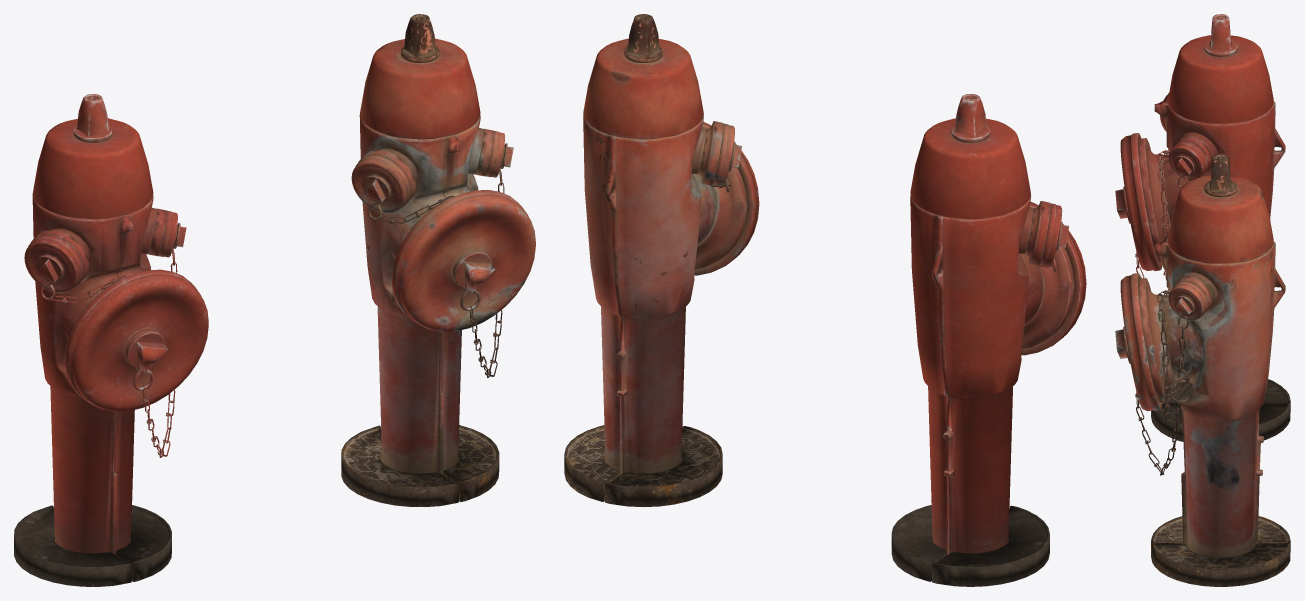
Rendered from fire_hydrant_2k.gltf.
3 views of the same model, side by side, from view 1: azimuth 30°, elevation 25°; view 2: azimuth 150°, elevation 25°; view 3: azimuth 270°, elevation 25° (orthographic). The views are drawn at different scales.
Visible parts, largest first — view 1: fire_hydrant, fire_hydrant_aged, fire_hydrant_cap_01, fire_hydrant_cap_01_aged, fire_hydrant_cap_03, fire_hydrant_cap_03_aged, fire_hydrant_chain, fire_hydrant_chain_aged, fire_hydrant_cap_02_aged, fire_hydrant_cap_02; view 2: fire_hydrant, fire_hydrant_aged, fire_hydrant_cap_01, fire_hydrant_cap_01_aged, fire_hydrant_cap_03_aged, fire_hydrant_cap_03; view 3: fire_hydrant_aged, fire_hydrant, fire_hydrant_cap_01, fire_hydrant_cap_01_aged, fire_hydrant_chain_aged, fire_hydrant_cap_02_aged, fire_hydrant_cap_02, fire_hydrant_chain.
Part boxes in pixels (left/top/right/bottom): fire_hydrant: left=14, top=94, right=171, bottom=586; fire_hydrant_aged: left=341, top=14, right=499, bottom=506; fire_hydrant_cap_01: left=64, top=269, right=208, bottom=411; fire_hydrant_cap_01_aged: left=391, top=190, right=535, bottom=331; fire_hydrant_cap_03: left=24, top=235, right=83, bottom=293; fire_hydrant_cap_03_aged: left=351, top=155, right=410, bottom=213; fire_hydrant_chain: left=40, top=224, right=177, bottom=457; fire_hydrant_chain_aged: left=367, top=145, right=504, bottom=377; fire_hydrant_cap_02_aged: left=485, top=131, right=513, bottom=177; fire_hydrant_cap_02: left=158, top=210, right=186, bottom=257; fire_hydrant: left=891, top=94, right=1074, bottom=586; fire_hydrant_aged: left=564, top=14, right=747, bottom=507; fire_hydrant_cap_01: left=1021, top=202, right=1086, bottom=355; fire_hydrant_cap_01_aged: left=694, top=122, right=759, bottom=275; fire_hydrant_cap_03_aged: left=712, top=123, right=741, bottom=186; fire_hydrant_cap_03: left=1039, top=203, right=1069, bottom=266; fire_hydrant_aged: left=1138, top=154, right=1290, bottom=586; fire_hydrant: left=1138, top=14, right=1290, bottom=441; fire_hydrant_cap_01: left=1115, top=133, right=1161, bottom=271; fire_hydrant_cap_01_aged: left=1115, top=273, right=1161, bottom=411; fire_hydrant_chain_aged: left=1135, top=289, right=1195, bottom=475; fire_hydrant_cap_02_aged: left=1168, top=281, right=1208, bottom=320; fire_hydrant_cap_02: left=1168, top=141, right=1208, bottom=180; fire_hydrant_chain: left=1135, top=149, right=1193, bottom=280.
Size of the model in its own units: 0.8746 by 0.7994 by 0.3173.
2 materials, 2 textured.
